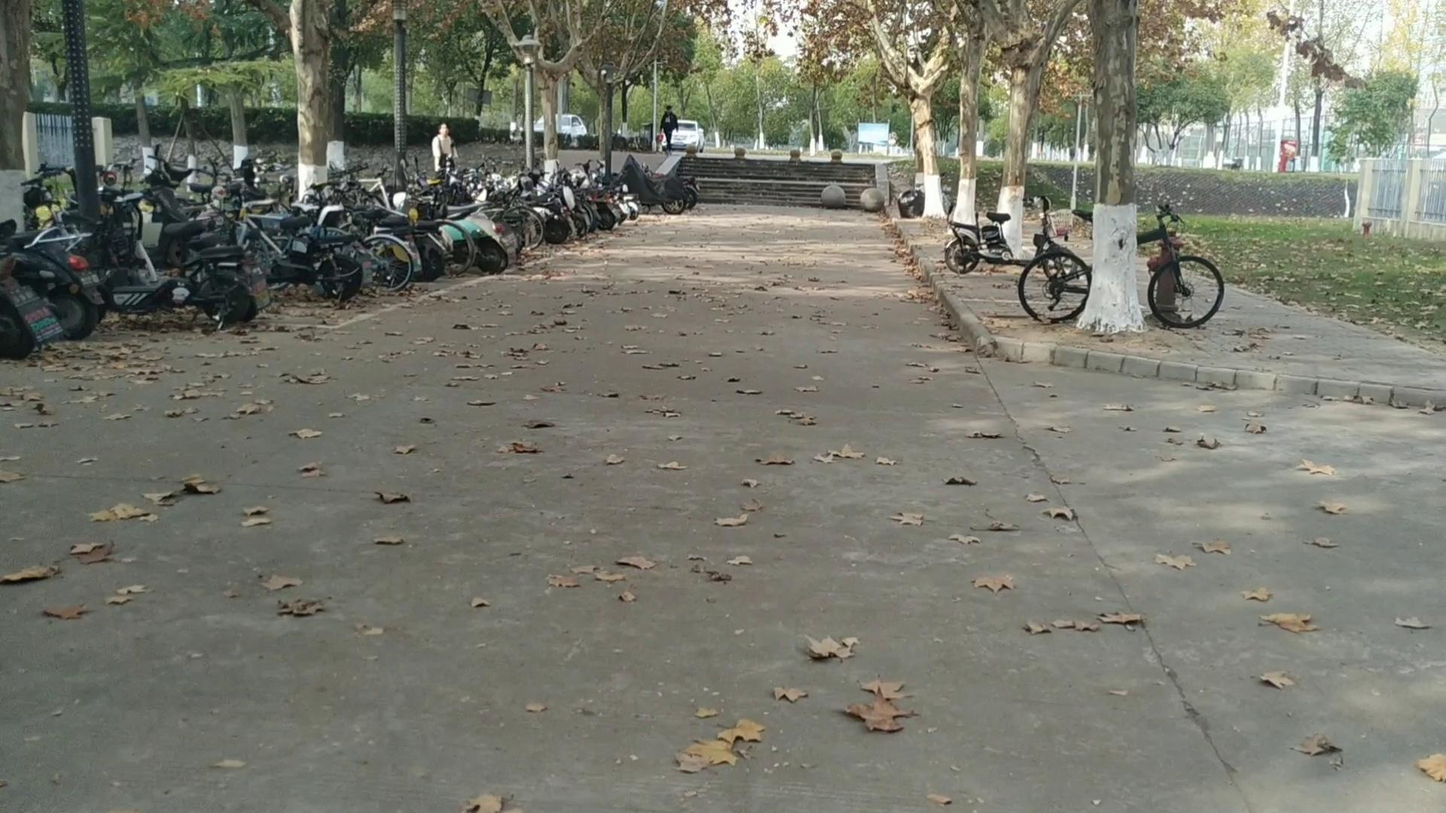car: (539, 115, 594, 148), (670, 120, 706, 154)
